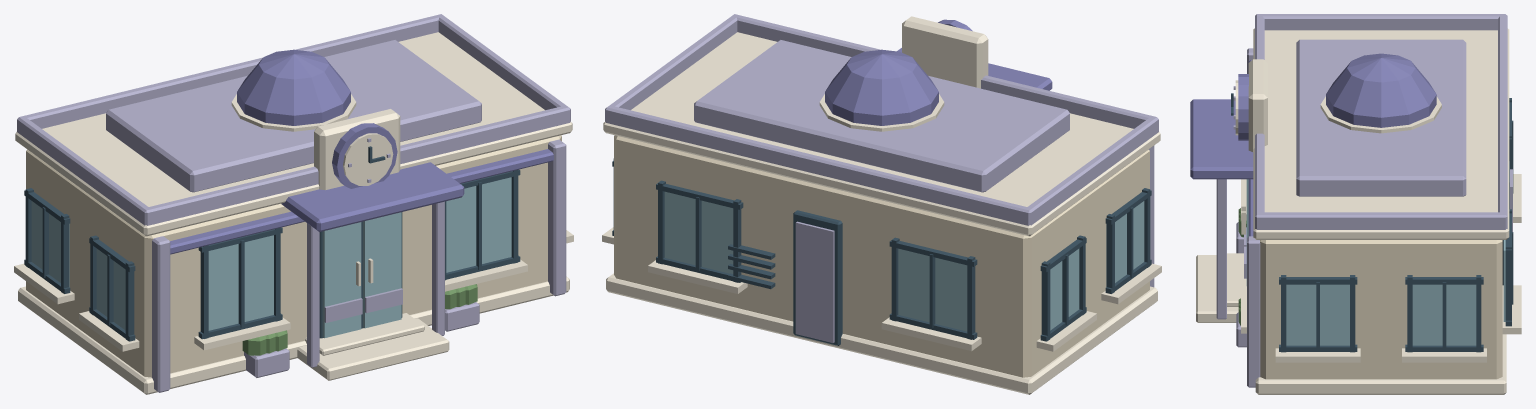
The model's file is learning-l01.glb.
The picture shows the model from 3 angles, left to right: view 1: azimuth 30°, elevation 25°; view 2: azimuth 150°, elevation 25°; view 3: azimuth 270°, elevation 25°; orthographic projection. The views are drawn at different scales.
Parts seen in each view (by area): view 1: learning_L01; view 2: learning_L01; view 3: learning_L01.
Part boxes in pixels (x1,y1,x2,y2): learning_L01: [14, 14, 573, 394]; learning_L01: [602, 14, 1161, 394]; learning_L01: [1190, 14, 1521, 394].
Bounding box in the file's own units: 6.27 × 3.23 × 4.09.
